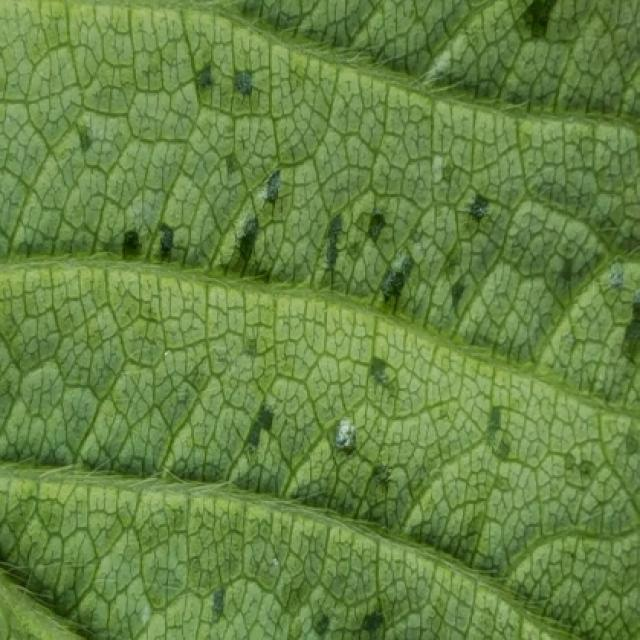Angular Leafspot: (74, 0, 638, 638)
